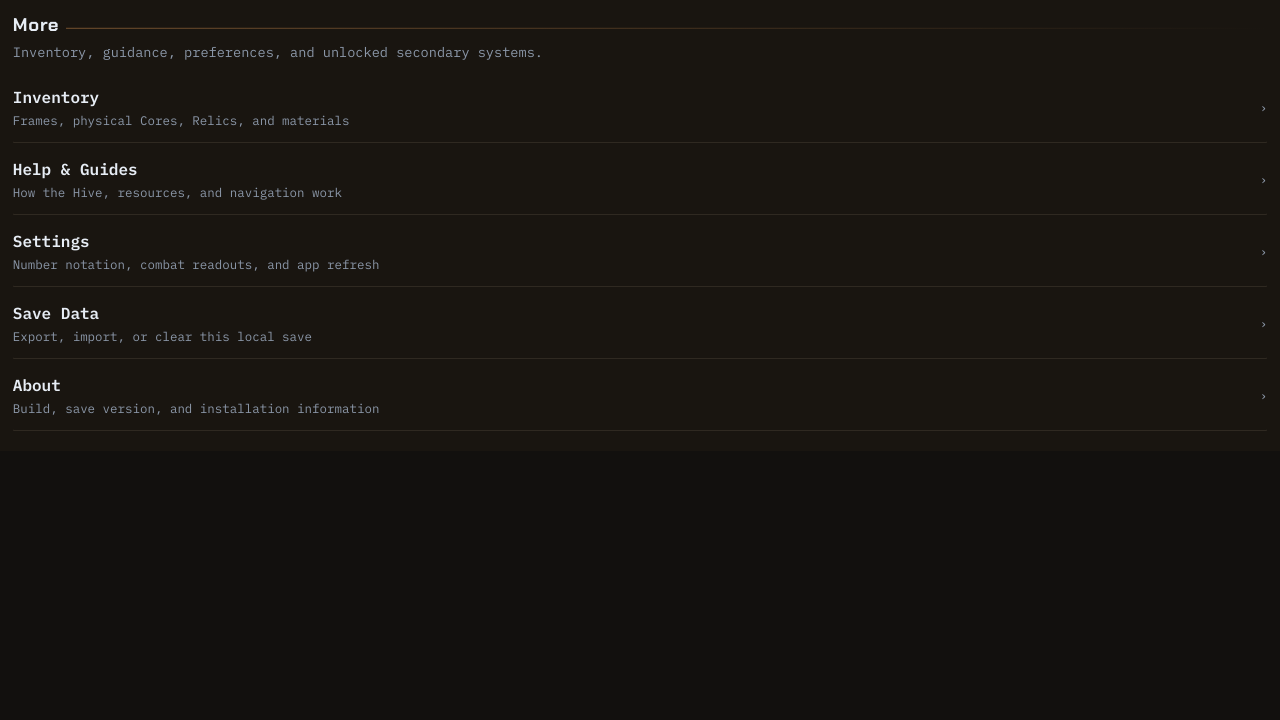
Test: More hub navigation › keeps Save Data separate from Settings
Click the button "Save Data Export, import, or clear this local save ›": (56, 313) x1=13 y1=287 x2=1267 y2=359
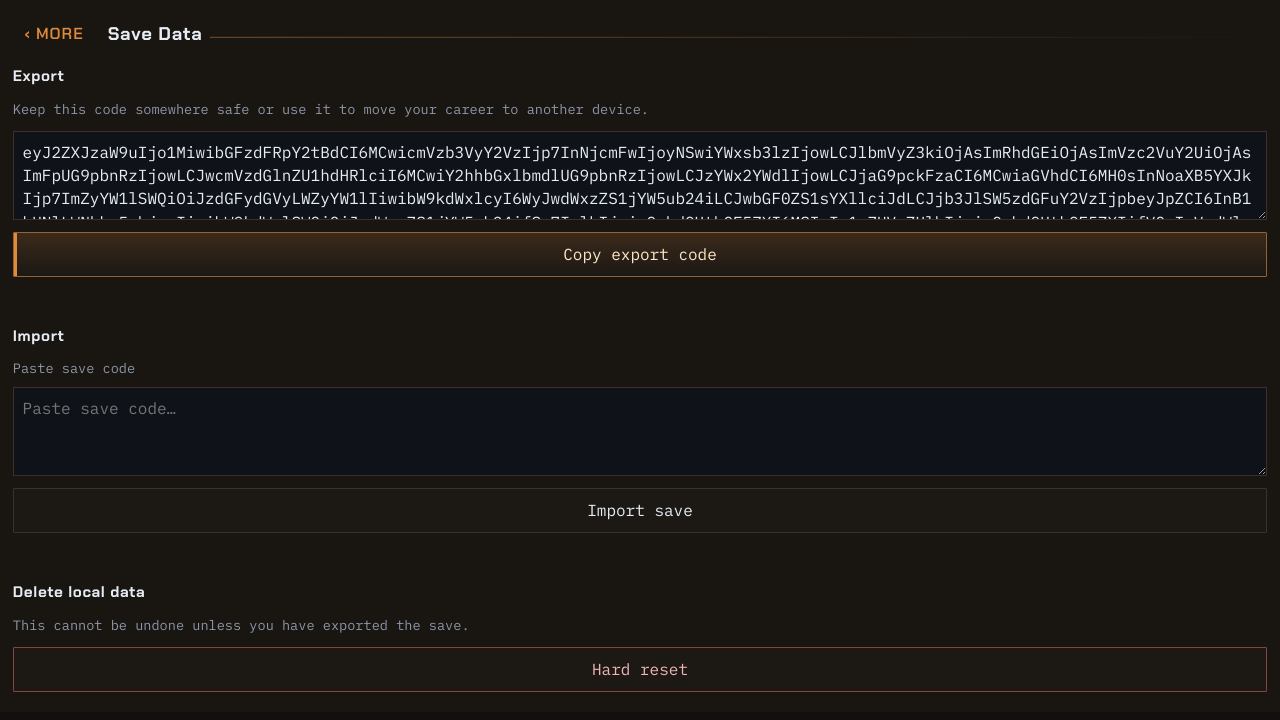
Now the heading "Save Data" is shown, box x1=108 y1=22 x2=202 y2=46
Now the button "Copy export code" is shown, box x1=13 y1=232 x2=1267 y2=277
Now the button "Import save" is shown, box x1=13 y1=488 x2=1267 y2=533
